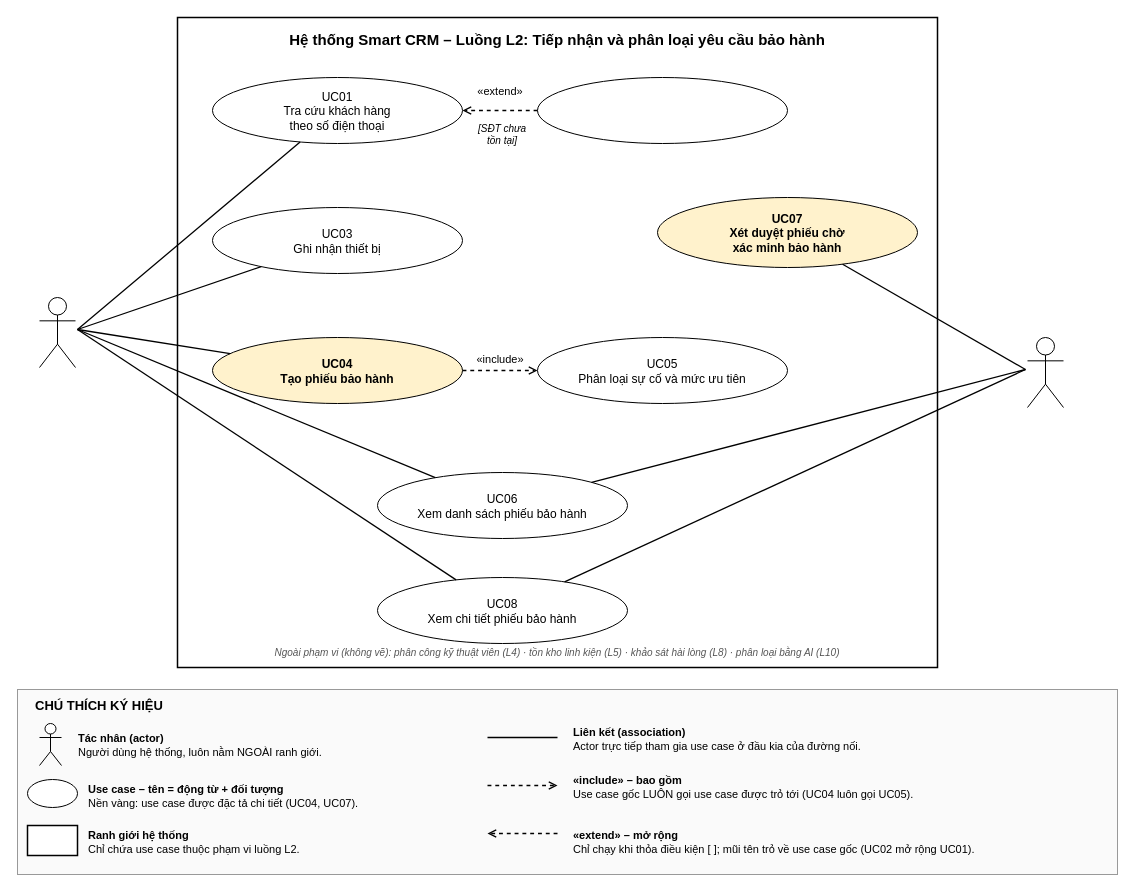
This 1135x893 diagram has some shape labels left out. Here are the shapes that lost their labels. From the top down, the centre of each, then its label:
(662,110): UC02 Tạo hồ sơ khách hàng mới
(57,332): Nhân viên tiếp nhận
(1045,372): Quản lý trung tâm bảo hành
